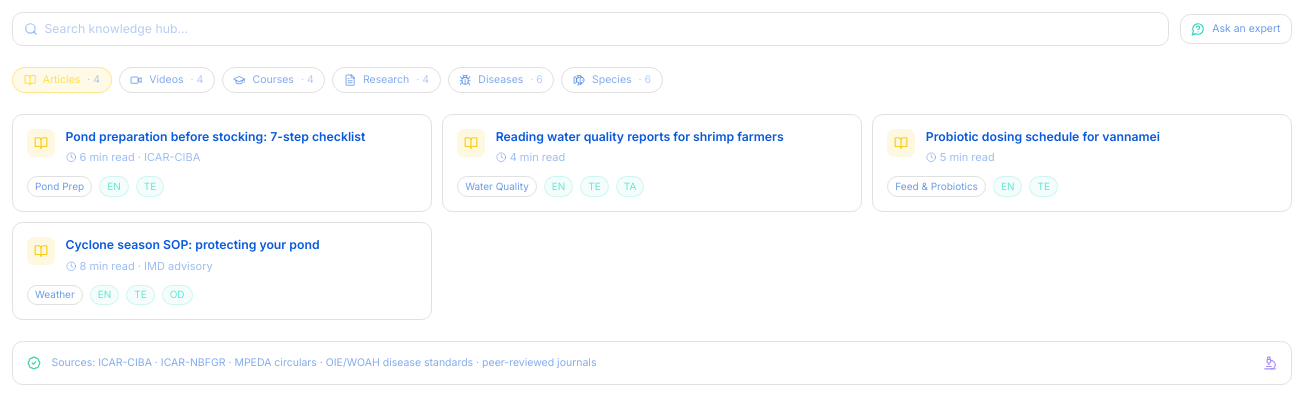
<KnowledgeHubModule /> › filters items by search query
This screenshot has width=1304, height=402.
In the field with placeholder "Search knowledge hub…": (601, 29) [44,20,1158,38], type "cyclone"
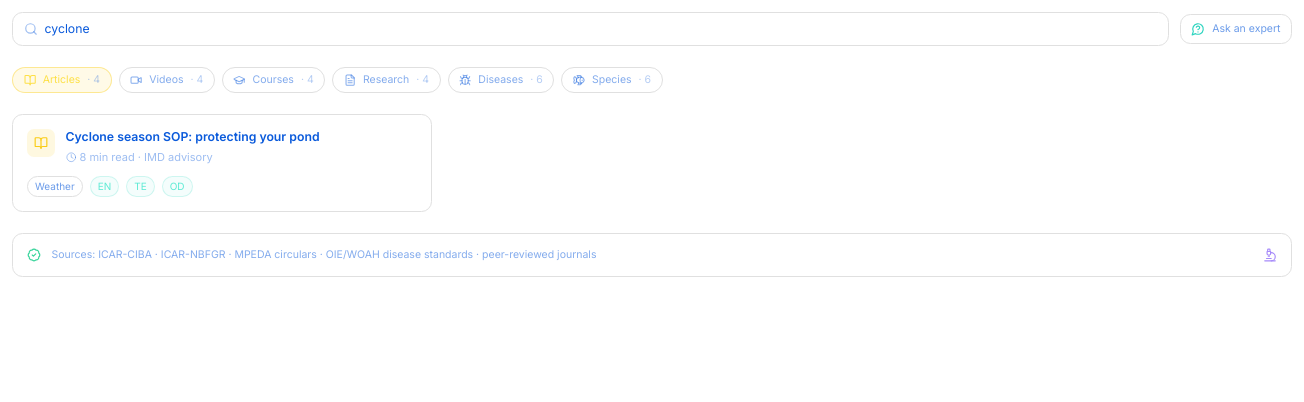
Expected: the text "Cyclone season SOP: protecting your pond" is shown, [66,129,320,144]
